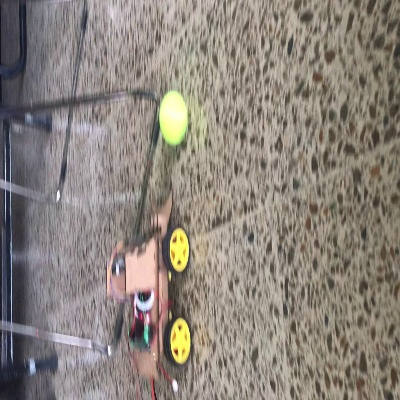Ball: (156, 90, 190, 145)
Robot: (106, 190, 192, 386)
